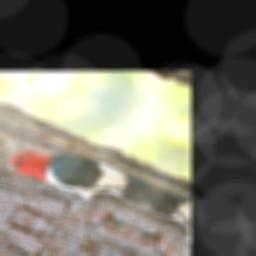Woodpecker: (0, 130, 158, 243)
